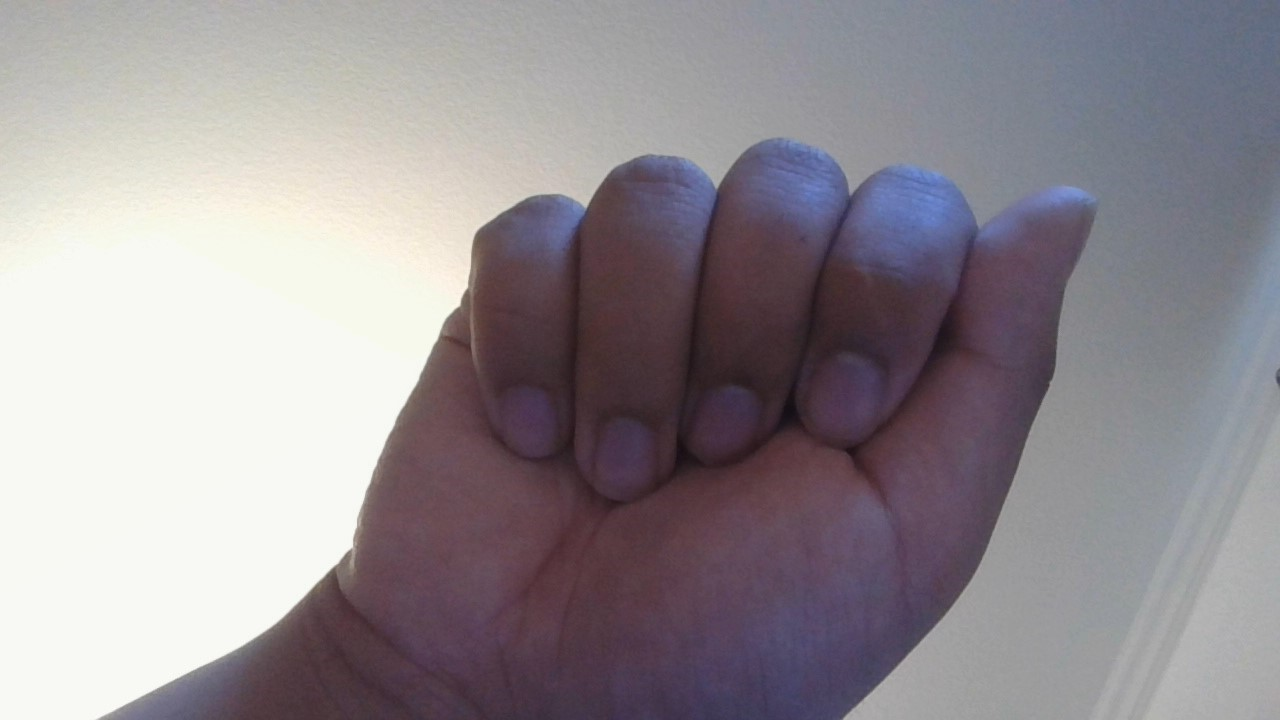a: (335, 133, 1143, 720)
